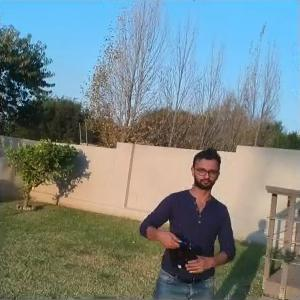follow: (135, 143, 239, 298)
